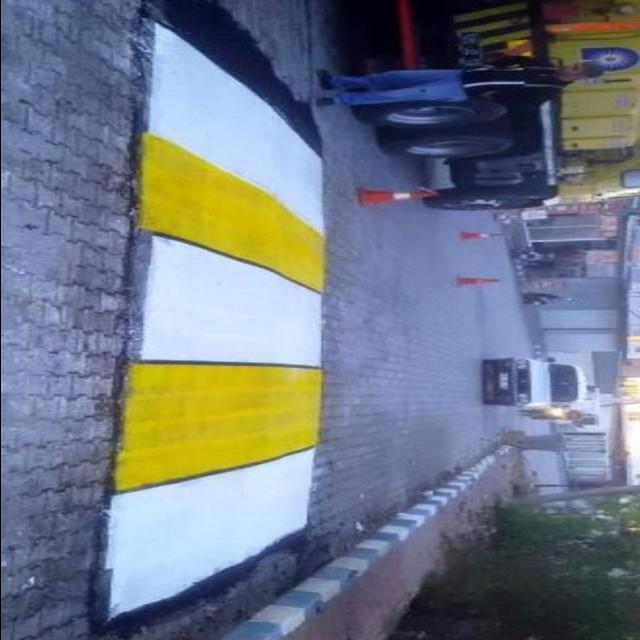speedbreaker: (98, 0, 326, 628)
